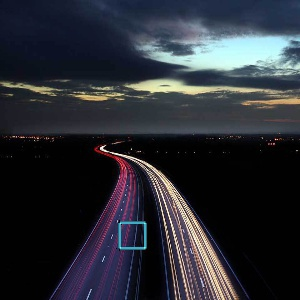square: (114, 218, 149, 253)
